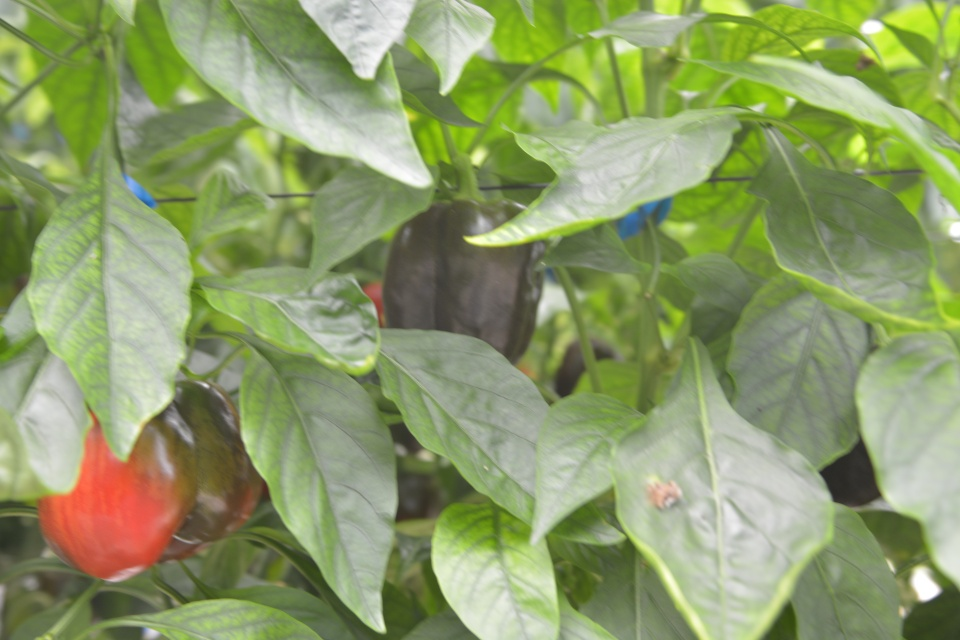fruit: (37, 376, 268, 586), (383, 196, 544, 367)
pedicle: (448, 194, 504, 204)
